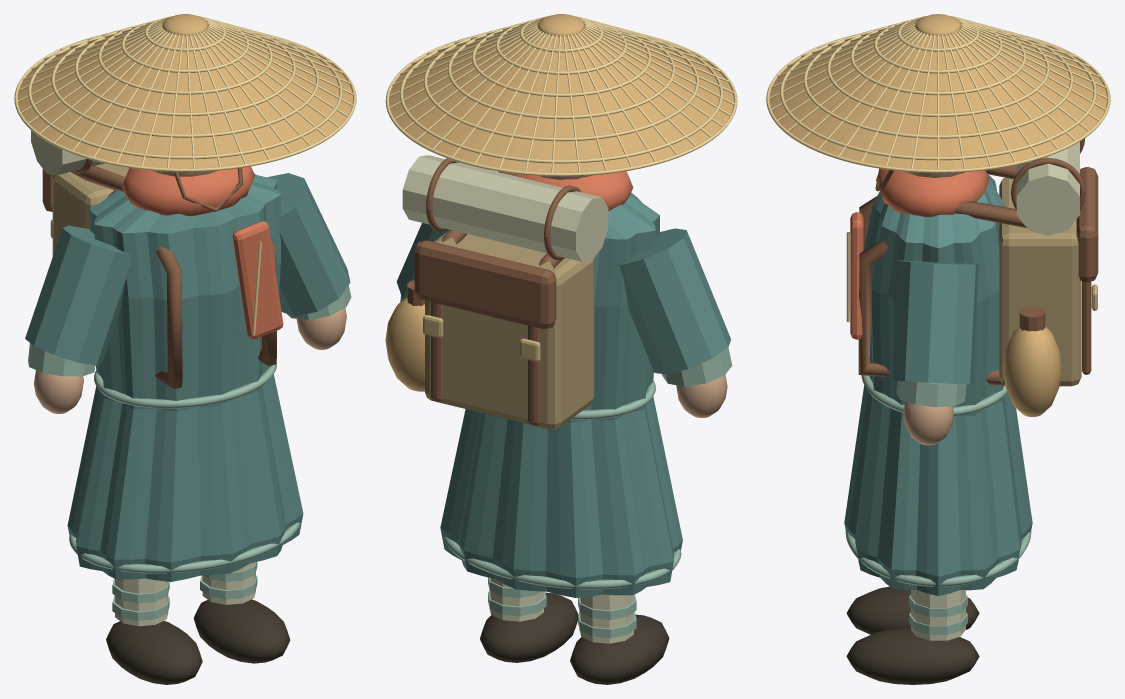
The model's file is pilgrim.glb.
3 views of the same model, side by side, from view 1: azimuth 30°, elevation 25°; view 2: azimuth 150°, elevation 25°; view 3: azimuth 270°, elevation 25° (orthographic). The views are drawn at different scales.
Parts seen in each view (by area): view 1: Robe, Straw hat, Wide sleeve, Wide sleeve.001, Travel shoe.001, Travel shoe, Scarf cowl, Scarf front tail, Shoulder strap, Backpack, Hat woven ring.006, Hat woven ring.005 (+18 smaller); view 2: Robe, Straw hat, Backpack, Rolled sleeping mat, Wide sleeve, Pack flap, Travel shoe, Travel shoe.001, Canteen, Hat woven ring.006, Hat woven ring.005, Woven robe border (+19 smaller); view 3: Robe, Straw hat, Wide sleeve.001, Backpack, Travel shoe.001, Rolled sleeping mat, Canteen, Scarf cowl, Shoulder strap.001, Travel shoe, Hat woven ring.006, Pack flap (+18 smaller).
Boxes of the visible parts, left/top/right/bottom form: Robe: left=67, top=173, right=303, bottom=581; Straw hat: left=18, top=26, right=352, bottom=168; Wide sleeve: left=25, top=225, right=131, bottom=365; Wide sleeve.001: left=267, top=173, right=350, bottom=316; Travel shoe.001: left=193, top=599, right=290, bottom=663; Travel shoe: left=106, top=621, right=202, bottom=684; Scarf cowl: left=121, top=166, right=254, bottom=216; Scarf front tail: left=232, top=221, right=283, bottom=339; Shoulder strap: left=71, top=166, right=182, bottom=388; Backpack: left=52, top=163, right=129, bottom=256; Hat woven ring.006: left=14, top=37, right=356, bottom=171; Hat woven ring.005: left=28, top=33, right=342, bottom=159; Robe: left=440, top=192, right=682, bottom=597; Straw hat: left=389, top=26, right=733, bottom=172; Backpack: left=425, top=232, right=594, bottom=429; Rolled sleeping mat: left=402, top=155, right=608, bottom=261; Wide sleeve: left=619, top=228, right=730, bottom=374; Pack flap: left=414, top=240, right=556, bottom=328; Travel shoe: left=570, top=614, right=669, bottom=684; Travel shoe.001: left=480, top=592, right=577, bottom=662; Canteen: left=385, top=297, right=424, bottom=391; Hat woven ring.006: left=385, top=37, right=737, bottom=176; Hat woven ring.005: left=399, top=34, right=723, bottom=163; Woven robe border: left=443, top=537, right=681, bottom=589; Robe: left=844, top=173, right=1032, bottom=595; Straw hat: left=770, top=24, right=1106, bottom=171; Wide sleeve.001: left=892, top=260, right=978, bottom=384; Backpack: left=999, top=177, right=1081, bottom=386; Travel shoe.001: left=846, top=628, right=979, bottom=684; Rolled sleeping mat: left=1016, top=141, right=1079, bottom=235; Canteen: left=1003, top=326, right=1061, bottom=417; Scarf cowl: left=876, top=168, right=989, bottom=216; Shoulder strap.001: left=858, top=201, right=1026, bottom=385; Travel shoe: left=846, top=586, right=979, bottom=634; Hat woven ring.006: left=766, top=37, right=1110, bottom=172; Pack flap: left=1076, top=167, right=1098, bottom=282.
Size of the model in its own units: 0.9334 by 1.8 by 0.879.
